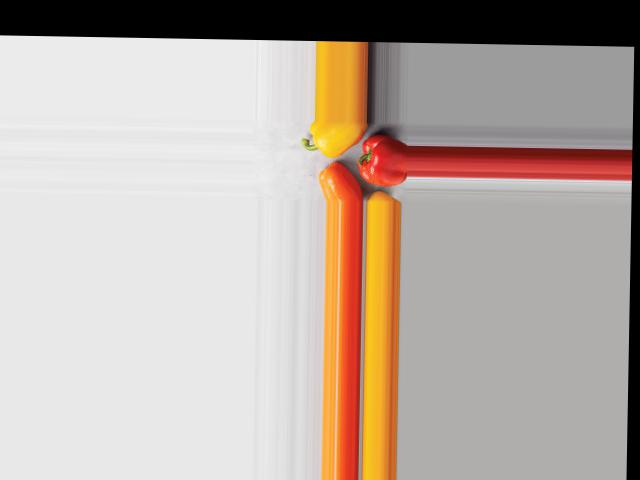bell_pepper: (356, 132, 407, 187)
